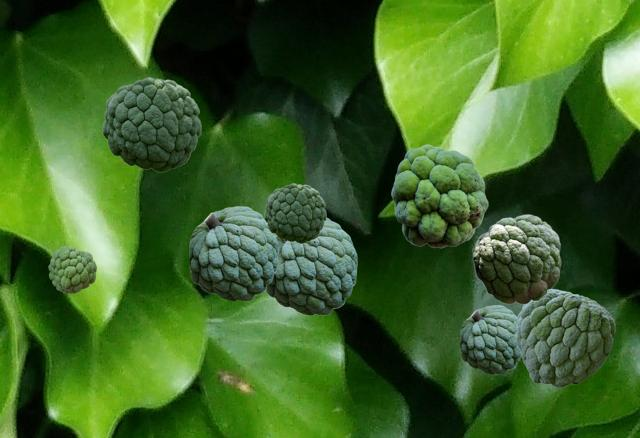atis: (391, 144, 487, 247), (515, 288, 614, 386), (102, 77, 200, 171), (266, 217, 356, 314), (189, 206, 277, 300), (472, 214, 560, 303), (460, 305, 520, 373), (264, 183, 325, 242), (48, 246, 95, 292)
